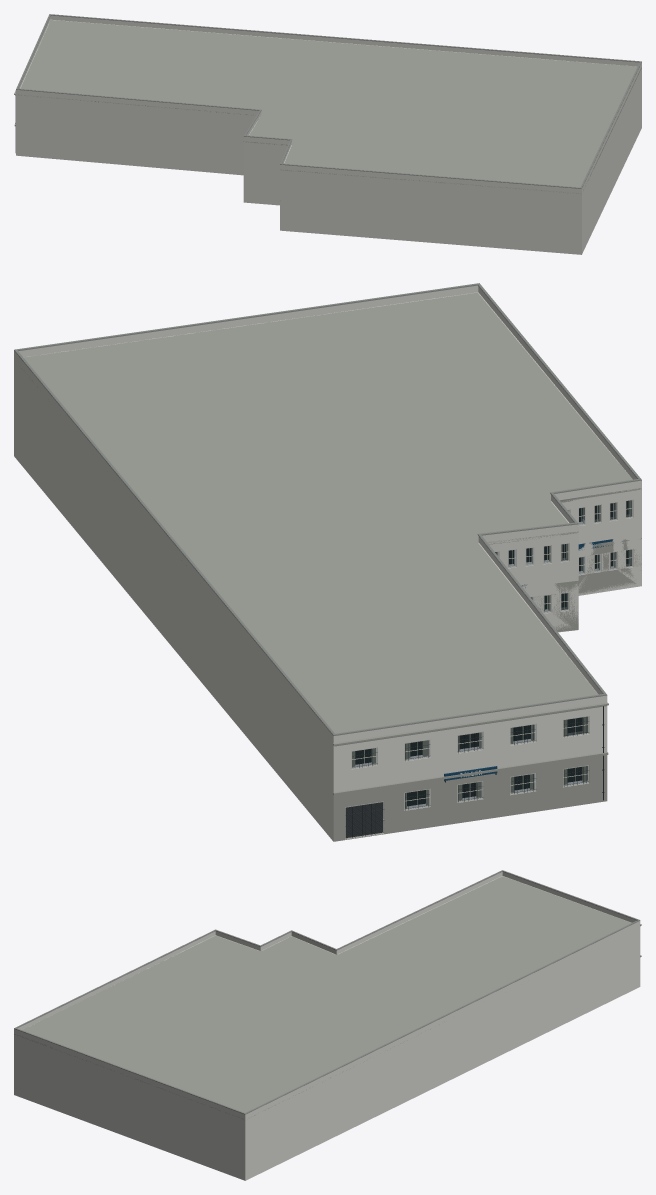
The model's file is building.glb.
The picture shows the model from 3 angles, top to bottom: view 1: azimuth 30°, elevation 25°; view 2: azimuth 150°, elevation 25°; view 3: azimuth 270°, elevation 25°; orthographic projection. The views are drawn at different scales.
Parts seen in each view (by area): view 1: roof/main:0/roof_slab#0001, main:0/edge4/z0/main:0/edge4/z0/wall_0_0, main:0/edge0/z0/main:0/edge0/z0/wall_0_0, roof/main:0/parapet#0001, main:0/edge5/z0/main:0/edge5/z0/wall_0_0/core0, roof/main:0/parapet_cap#0002, main:0/edge2/z0/main:0/edge2/z0/wall_0_0/core0, roof/main:0/parapet_cap#0001; view 2: roof/main:0/roof_slab#0001, main:0/edge6/z0/main:0/edge6/z0/wall_0_0/core0, roof/main:0/parapet#0001, main:0/edge7/z0/main:0/edge7/z0/wall_0_0/core0, main:0/edge7/z0/main:0/edge7/z0/coating_0_0_0/core0, roof/main:0/parapet_cap#0002, main:0/edge1/z0/main:0/edge1/z0/wall_0_0/core0, main:0/edge3/z0/main:0/edge3/z0/wall_0_0, roof/main:0/parapet_cap#0001, main:0/edge3/z0/main:0/edge3/z0/coating_0_0_0/clip2, main:0/edge7/z0/floor_slab#0001, main:0/edge7/z0/top_cornice#0001; view 3: roof/main:0/roof_slab#0001, main:0/edge6/z0/main:0/edge6/z0/wall_0_0/core0, main:0/edge5/z0/main:0/edge5/z0/wall_0_0/core0, roof/main:0/parapet#0001, roof/main:0/parapet_cap#0002, roof/main:0/parapet_cap#0001.
Part boxes in pixels (x1,y1,x2,y2): roof/main:0/roof_slab#0001: (18,20,641,193); main:0/edge4/z0/main:0/edge4/z0/wall_0_0: (280,169,581,254); main:0/edge0/z0/main:0/edge0/z0/wall_0_0: (16,94,256,175); roof/main:0/parapet#0001: (16,15,641,193); main:0/edge5/z0/main:0/edge5/z0/wall_0_0/core0: (582,69,641,253); roof/main:0/parapet_cap#0002: (16,14,641,188); main:0/edge2/z0/main:0/edge2/z0/wall_0_0/core0: (243,141,287,205); roof/main:0/parapet_cap#0001: (16,15,641,188); roof/main:0/roof_slab#0001: (21,292,641,733); main:0/edge6/z0/main:0/edge6/z0/wall_0_0/core0: (14,358,333,841); roof/main:0/parapet#0001: (14,285,641,743); main:0/edge7/z0/main:0/edge7/z0/wall_0_0/core0: (334,706,607,839); main:0/edge7/z0/main:0/edge7/z0/coating_0_0_0/core0: (333,755,607,841); roof/main:0/parapet_cap#0002: (14,283,641,735); main:0/edge1/z0/main:0/edge1/z0/wall_0_0/core0: (487,531,578,632); main:0/edge3/z0/main:0/edge3/z0/wall_0_0: (561,487,641,595); roof/main:0/parapet_cap#0001: (14,284,641,735); main:0/edge3/z0/main:0/edge3/z0/coating_0_0_0/clip2: (578,568,641,594); main:0/edge7/z0/floor_slab#0001: (333,752,608,795); main:0/edge7/z0/top_cornice#0001: (333,702,608,745); roof/main:0/roof_slab#0001: (14,876,631,1119); main:0/edge6/z0/main:0/edge6/z0/wall_0_0/core0: (245,925,640,1180); main:0/edge5/z0/main:0/edge5/z0/wall_0_0/core0: (14,1033,245,1180); roof/main:0/parapet#0001: (14,871,640,1118); roof/main:0/parapet_cap#0002: (14,870,639,1113); roof/main:0/parapet_cap#0001: (14,871,639,1114).
Bounding box in the file's own units: 59.48 × 7.57 × 64.47.
